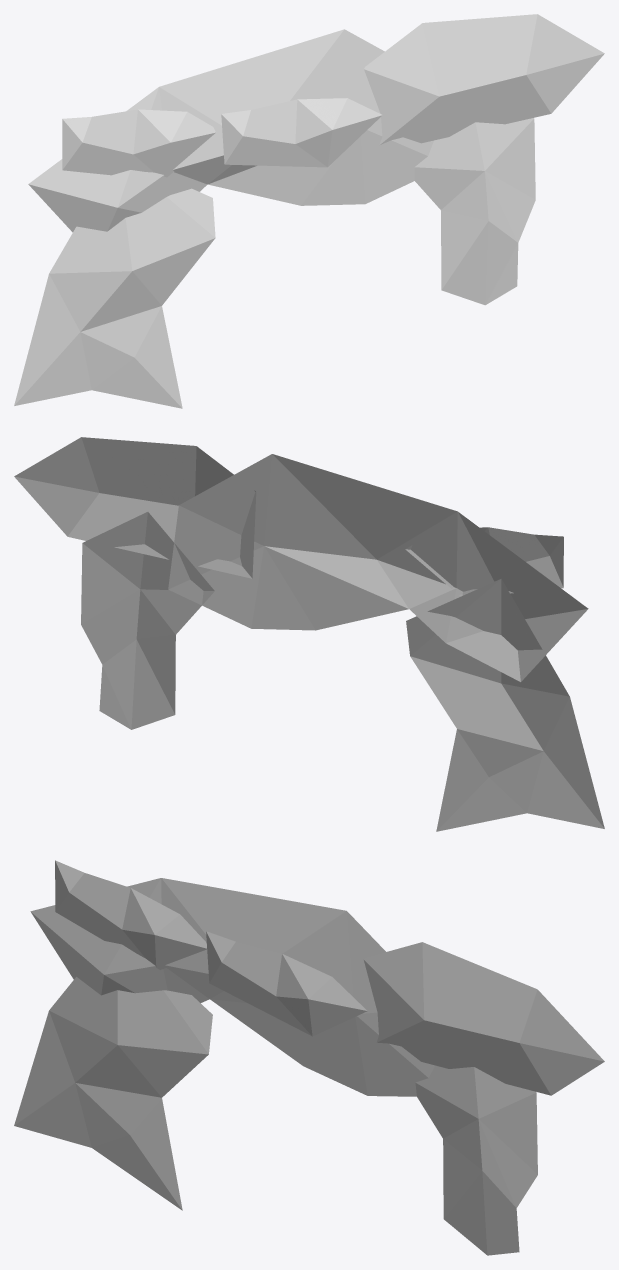
Rendered from SM_Env_Ivy_09.glb.
3 renders of one model, top to bottom at view 1: azimuth 30°, elevation 25°; view 2: azimuth 150°, elevation 25°; view 3: azimuth 330°, elevation 25°, orthographic.
Visible parts, largest first — view 1: SM_Env_Ivy_09; view 2: SM_Env_Ivy_09; view 3: SM_Env_Ivy_09.
Part boxes in pixels (x1,y1,x2,y2): SM_Env_Ivy_09: (14, 14, 604, 408); SM_Env_Ivy_09: (14, 437, 604, 831); SM_Env_Ivy_09: (14, 860, 604, 1255).
Bounding box in the file's own units: 3.05 × 1.67 × 0.1177.
Materials: 1 (1 with a texture image).
